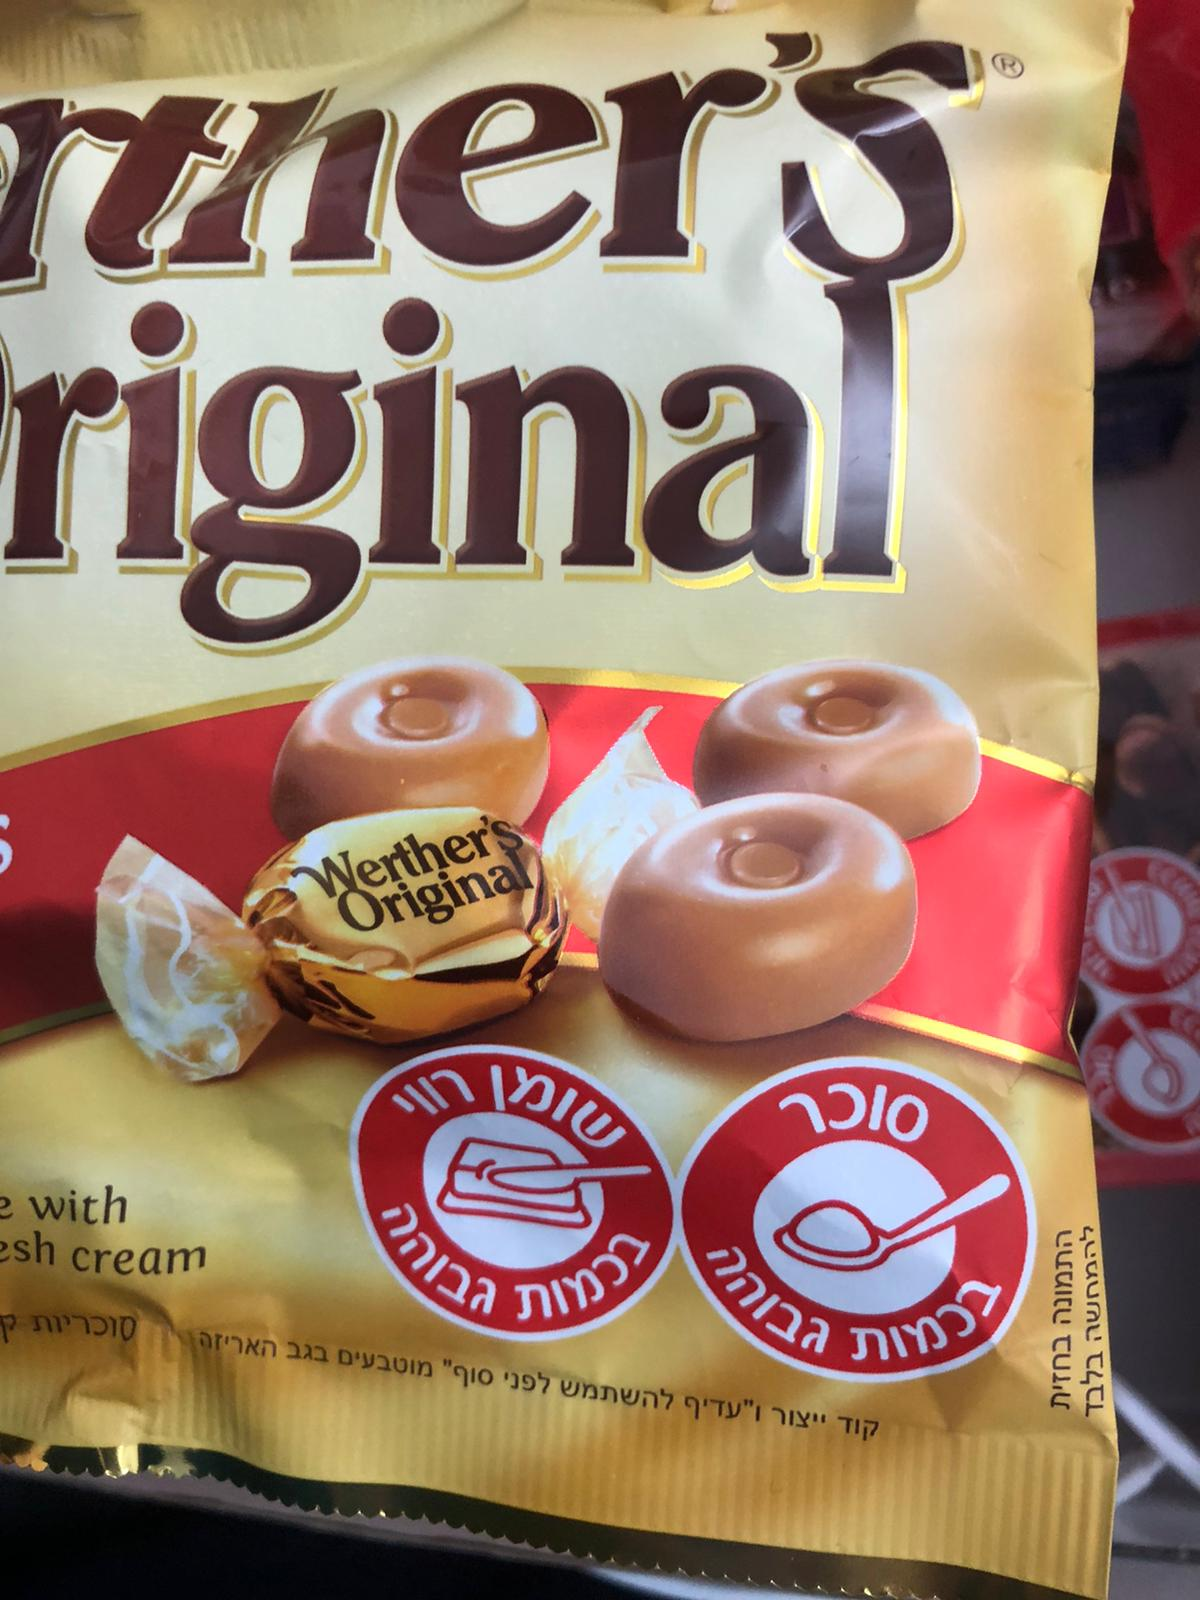fat: (349, 1046, 684, 1346)
sugar: (677, 1058, 1037, 1383)
